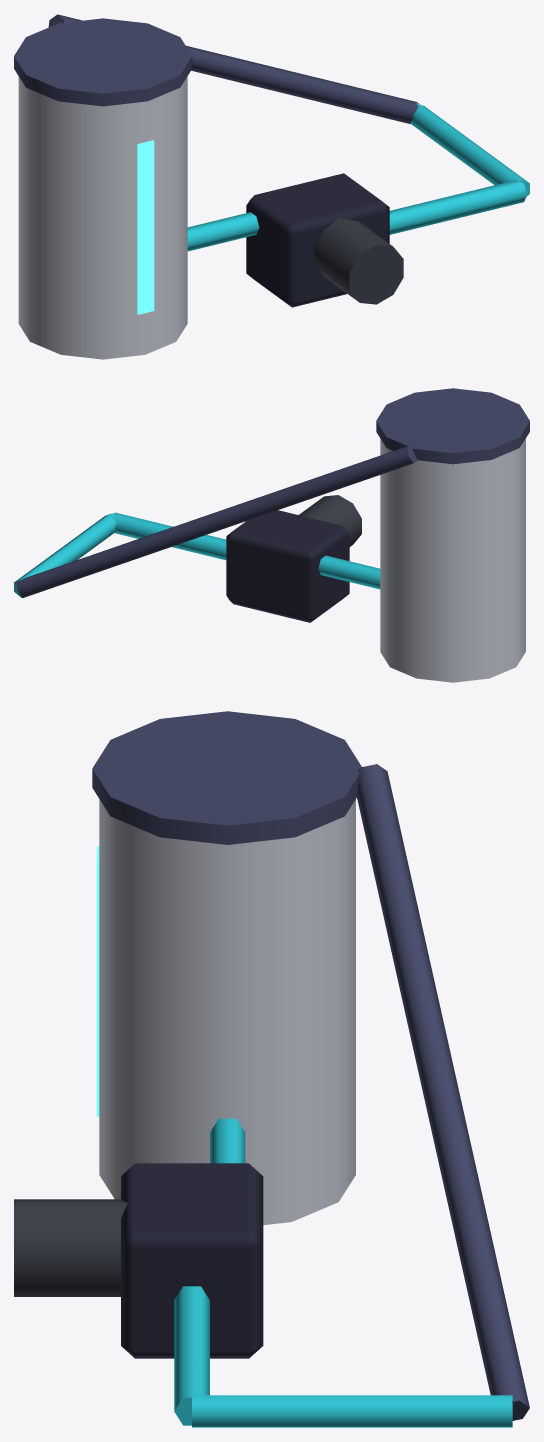
The model's file is station_transport_ausstattung_3_2.glb.
The picture shows the model from 3 angles, top to bottom: view 1: azimuth 30°, elevation 25°; view 2: azimuth 150°, elevation 25°; view 3: azimuth 270°, elevation 25°; orthographic projection. The views are drawn at different scales.
Parts seen in each view (by area): view 1: station_transport_ausstattung_3_2; view 2: station_transport_ausstattung_3_2; view 3: station_transport_ausstattung_3_2.
Part boxes in pixels (x1,y1,x2,y2): station_transport_ausstattung_3_2: (14,14,529,359); station_transport_ausstattung_3_2: (14,388,529,682); station_transport_ausstattung_3_2: (14,711,529,1427).
Bounding box in the file's own units: 1.21 × 0.6411 × 0.7245.
